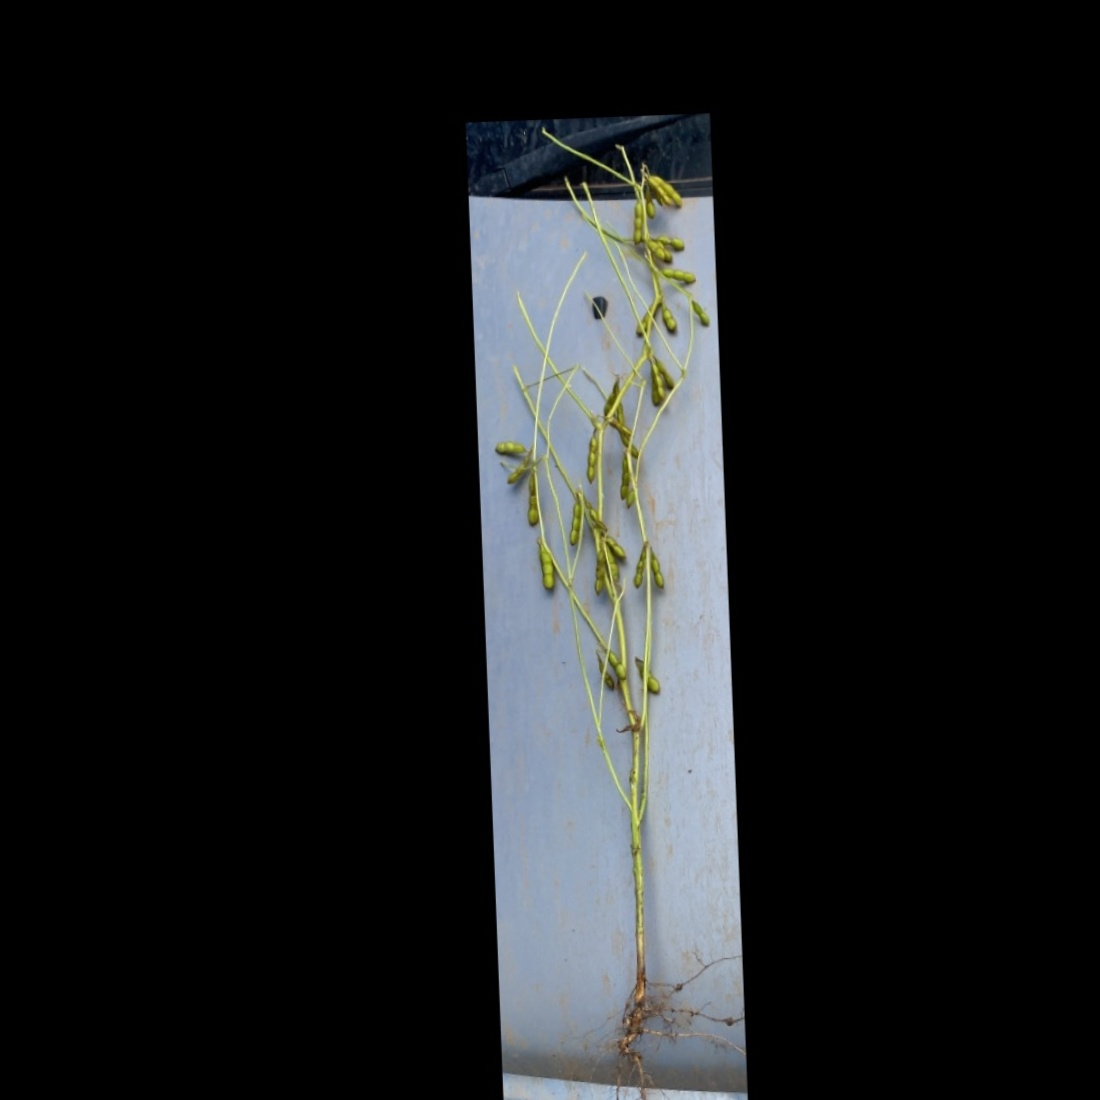pod: (533, 535, 556, 593), (634, 653, 663, 696), (580, 429, 601, 487), (589, 548, 608, 600), (503, 451, 531, 487), (522, 475, 540, 529), (493, 431, 528, 457), (657, 265, 698, 287), (565, 500, 582, 550), (647, 551, 668, 591), (614, 454, 631, 504), (628, 200, 644, 247), (606, 648, 629, 681), (630, 548, 646, 593), (689, 295, 708, 330), (659, 301, 679, 334), (642, 183, 658, 222)
soy: (479, 139, 737, 1076)
